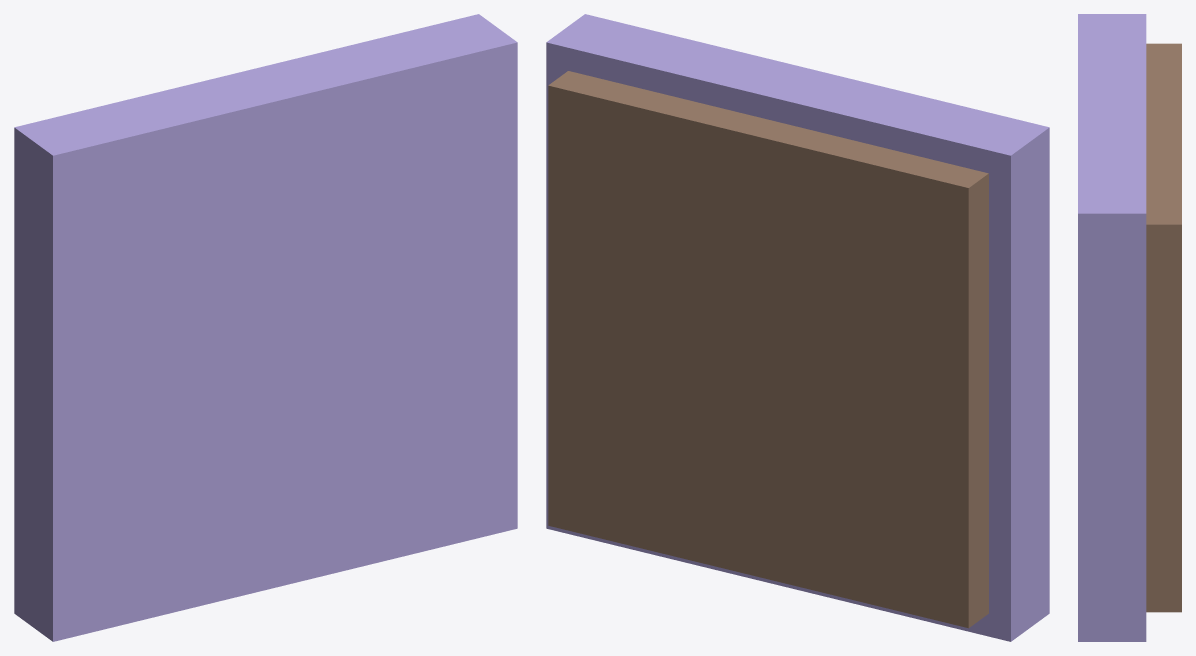
File: plot_island_wet_no_outline.glb
The picture shows the model from 3 angles, left to right: view 1: azimuth 30°, elevation 25°; view 2: azimuth 150°, elevation 25°; view 3: azimuth 270°, elevation 25°; orthographic projection. The views are drawn at different scales.
Parts seen in each view (by area): view 1: plot_island_wet_base_no_outline; view 2: plot_island_wet_solo_no_outline, plot_island_wet_base_no_outline; view 3: plot_island_wet_base_no_outline, plot_island_wet_solo_no_outline.
Boxes of the visible parts, x1=… form: plot_island_wet_base_no_outline: x1=14, y1=14, x2=517, y2=641; plot_island_wet_solo_no_outline: x1=548, y1=71, x2=988, y2=628; plot_island_wet_base_no_outline: x1=546, y1=14, x2=1049, y2=641; plot_island_wet_base_no_outline: x1=1078, y1=14, x2=1146, y2=641; plot_island_wet_solo_no_outline: x1=1146, y1=43, x2=1181, y2=612.
Size of the model in its own units: 1.9 by 1.9 by 0.4175.
